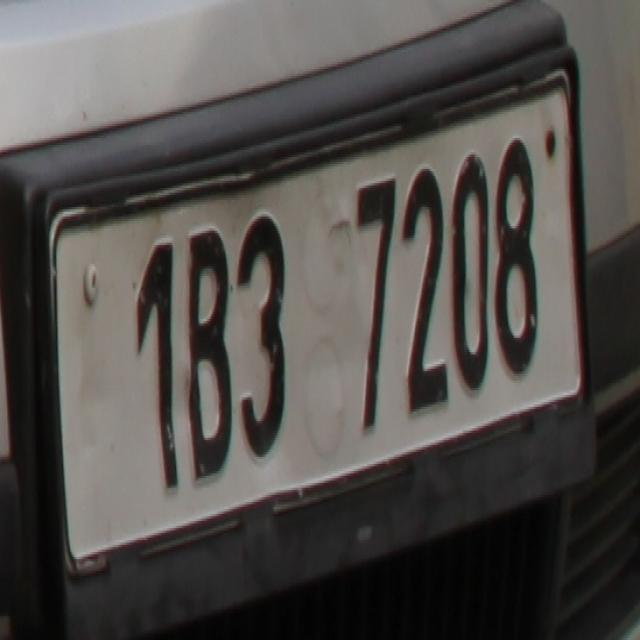0: (448, 154, 493, 390)
1: (139, 235, 175, 495)
2: (402, 160, 450, 416)
3: (236, 210, 286, 473)
7: (354, 174, 396, 430)
8: (496, 133, 538, 374)
B: (186, 224, 234, 481)
